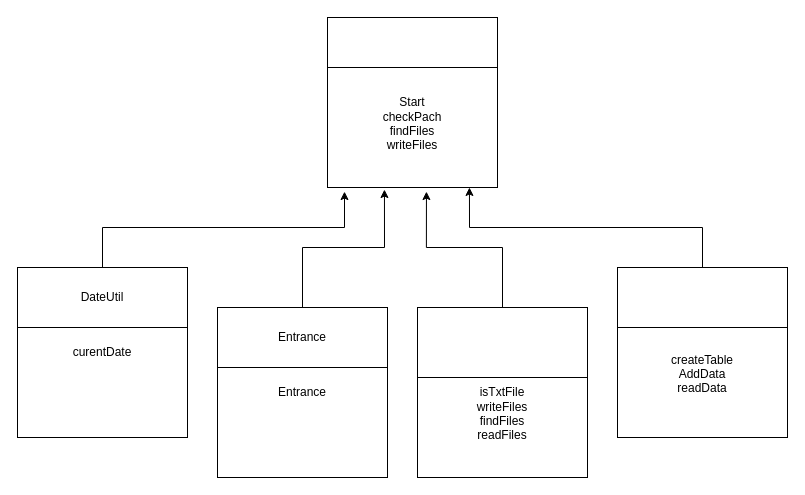
Some shapes in this 805 by 495 pixel diagram are drawn without their labels. The centre of each missing label's shape, as x and y in pixels:
App: the point at 412,42
FilesUtils: the point at 502,342
MySqlUtils: the point at 702,297
